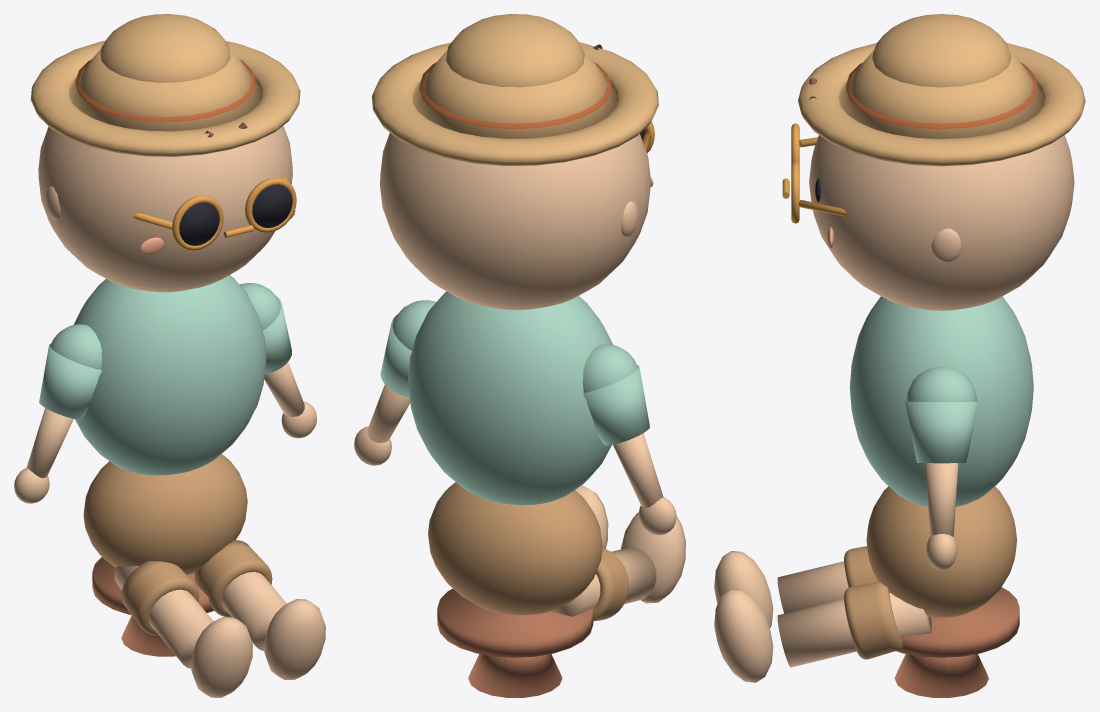
Rendered from char_human.glb.
3 renders of one model, left to right at view 1: azimuth 30°, elevation 25°; view 2: azimuth 150°, elevation 25°; view 3: azimuth 270°, elevation 25°, orthographic. The views are drawn at different scales.
Visible parts, largest first — view 1: torso, head, hip, hat_brim, hat_crown, hat_top, foot, foot.001, Cylinder.002, sleevec, cuff, Cylinder.003 (+15 smaller); view 2: head, torso, hip, hat_brim, hat_crown, hat_top, stool_top, stool_base, sleevec, foot, Cylinder.002, arm (+9 smaller); view 3: head, torso, hip, hat_brim, hat_crown, hat_top, Cylinder.003, stool_top, foot.001, sleevec.001, stool_base, cuff.001 (+8 smaller).
Part boxes in pixels (left/top/right/bottom): torso: left=73, top=275, right=266, bottom=475; head: left=38, top=125, right=292, bottom=292; hip: left=83, top=454, right=247, bottom=574; hat_brim: left=30, top=40, right=300, bottom=156; hat_crown: left=69, top=48, right=261, bottom=131; hat_top: left=100, top=14, right=230, bottom=82; foot: left=191, top=617, right=252, bottom=697; foot.001: left=264, top=599, right=325, bottom=680; Cylinder.002: left=114, top=565, right=213, bottom=668; sleevec: left=39, top=344, right=101, bottom=419; cuff: left=121, top=561, right=199, bottom=635; Cylinder.003: left=222, top=571, right=286, bottom=650; head: left=380, top=133, right=650, bottom=310; torso: left=408, top=291, right=612, bottom=505; hip: left=428, top=482, right=602, bottom=615; hat_brim: left=371, top=42, right=658, bottom=165; hat_crown: left=412, top=50, right=617, bottom=138; hat_top: left=446, top=14, right=584, bottom=87; stool_top: left=437, top=588, right=593, bottom=657; stool_base: left=468, top=654, right=562, bottom=697; sleevec: left=583, top=365, right=649, bottom=445; foot: left=620, top=512, right=685, bottom=603; Cylinder.002: left=551, top=547, right=656, bottom=616; arm: left=613, top=433, right=663, bottom=507; head: left=809, top=135, right=1074, bottom=310; torso: left=849, top=296, right=1033, bottom=506; hip: left=866, top=486, right=1016, bottom=617; hat_brim: left=798, top=43, right=1085, bottom=166; hat_crown: left=839, top=49, right=1044, bottom=138; hat_top: left=872, top=14, right=1011, bottom=87; Cylinder.003: left=777, top=592, right=931, bottom=667; stool_top: left=896, top=587, right=1019, bottom=657; foot.001: left=714, top=588, right=773, bottom=682; sleevec.001: left=905, top=401, right=978, bottom=463; stool_base: left=894, top=654, right=988, bottom=697; cuff.001: left=844, top=582, right=902, bottom=659.
Bounding box in the file's own units: 1.56 × 3.06 × 1.57.
